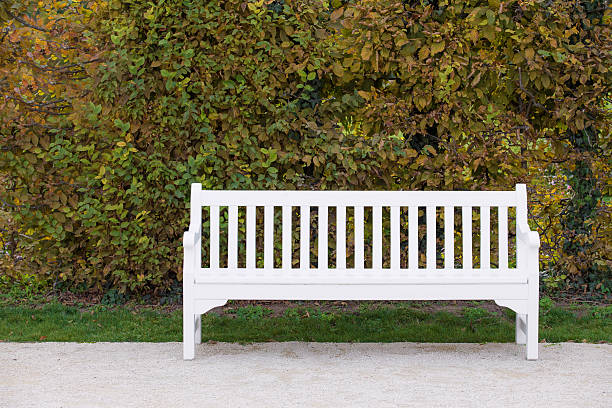bench: (163, 176, 550, 370)
